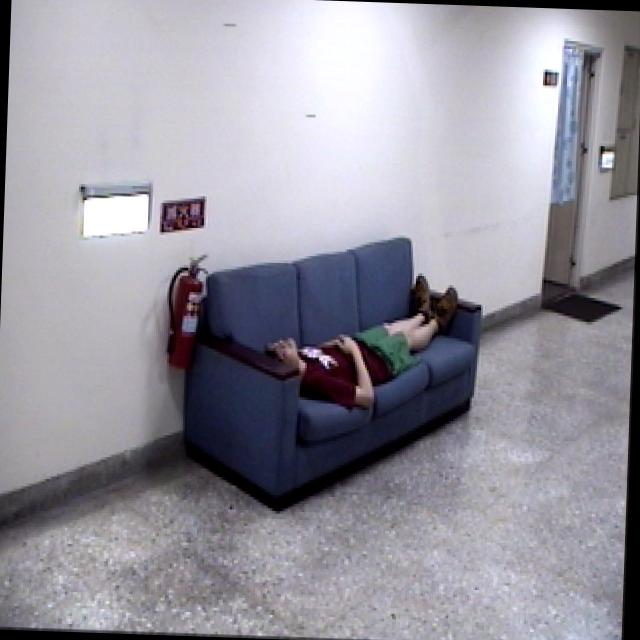lie: (259, 266, 472, 425)
